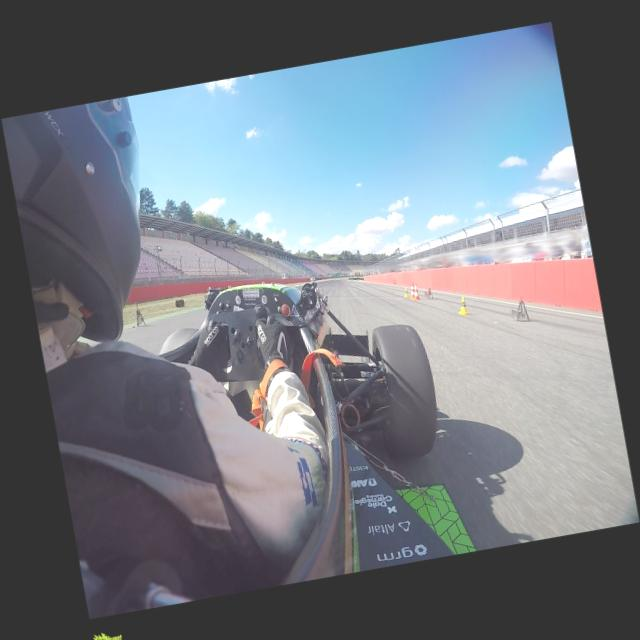large_orange_cone: (407, 281, 416, 299), (412, 282, 420, 300)
yellow_cone: (457, 296, 468, 315), (402, 286, 408, 298)
